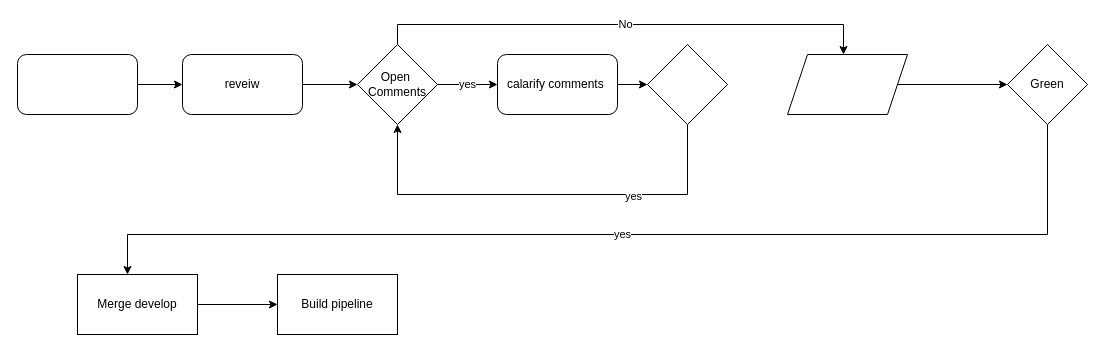
The diagram is 1105 pixels wide and 352 high, and some of its shapes have lost their labels. The shapes that lost their labels are listed below. From the top down, each one's centre as x and y in pixels, then its label:
At (77,84): "PR".
At (687,84): "resolved".
At (847,84): "CI pipeline".
